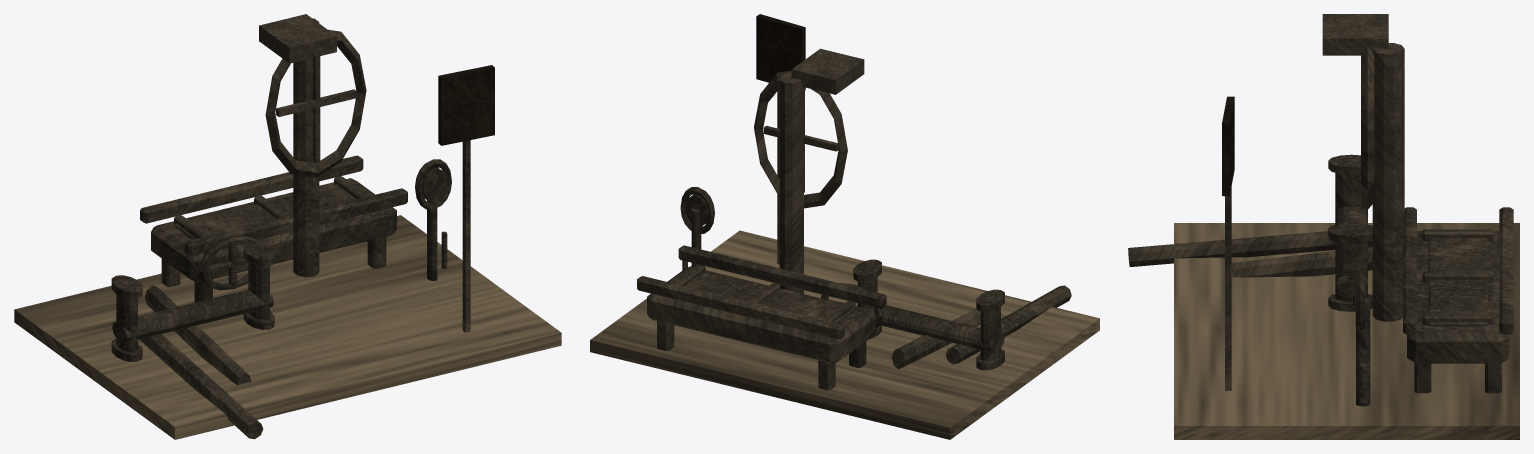
Rendered from ford-service-pump.glb.
The picture shows the model from 3 angles, left to right: view 1: azimuth 30°, elevation 25°; view 2: azimuth 150°, elevation 25°; view 3: azimuth 270°, elevation 25°; orthographic projection. The views are drawn at different scales.
Visible parts, largest first — view 1: ford-service-pump; view 2: ford-service-pump; view 3: ford-service-pump.
Boxes of the visible parts, left/top/right/bottom form: ford-service-pump: left=14, top=14, right=561, bottom=439; ford-service-pump: left=590, top=14, right=1099, bottom=439; ford-service-pump: left=1128, top=14, right=1519, bottom=439.
Bounding box in the file's own units: 7.5 × 5.5 × 6.11.
1 material, 1 textured.
